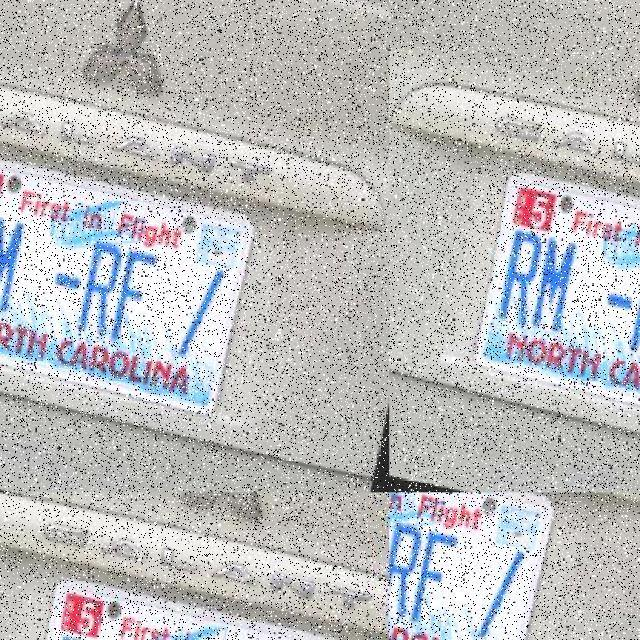LicensePlate: (390, 492, 565, 640), (0, 0, 42, 34), (0, 492, 18, 496)
